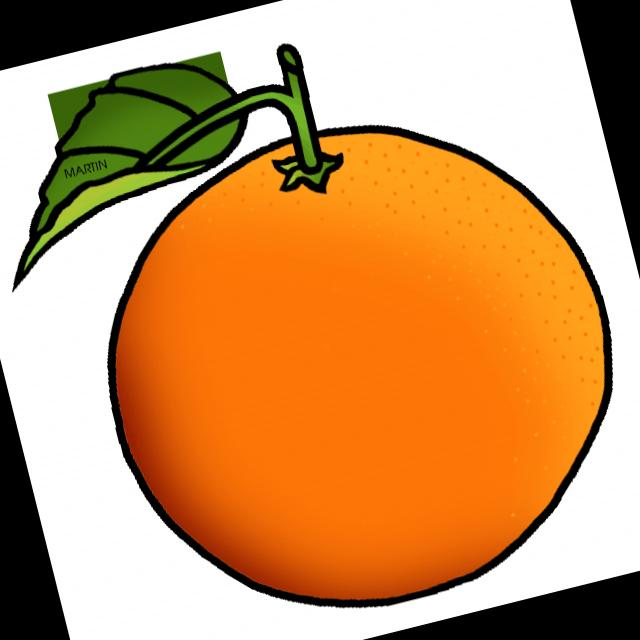orange: (57, 77, 640, 640)
